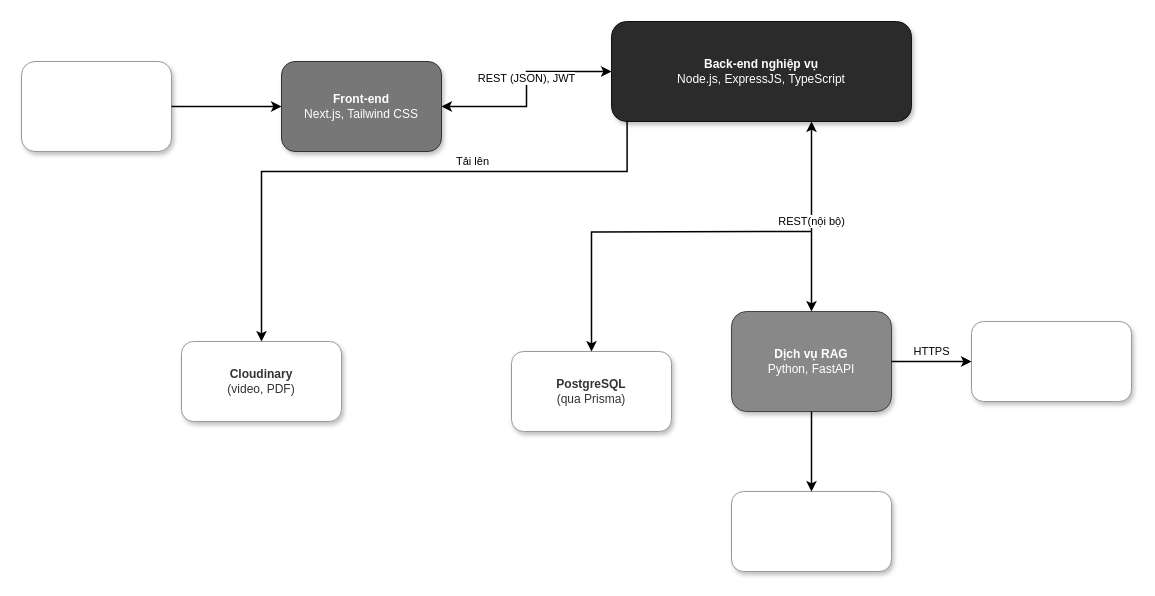
Image size: 1155x596. Some labels were removed from this diagram. Each missing label, with the centre of its shape:
"ChromaDB (chạy nhúng, lưu vector)" belongs at [812,532].
"Gemini API (embedding, sinh câu trả lời)" belongs at [1052,362].
"Người dùng (trình duyệt)" belongs at [97,107].
